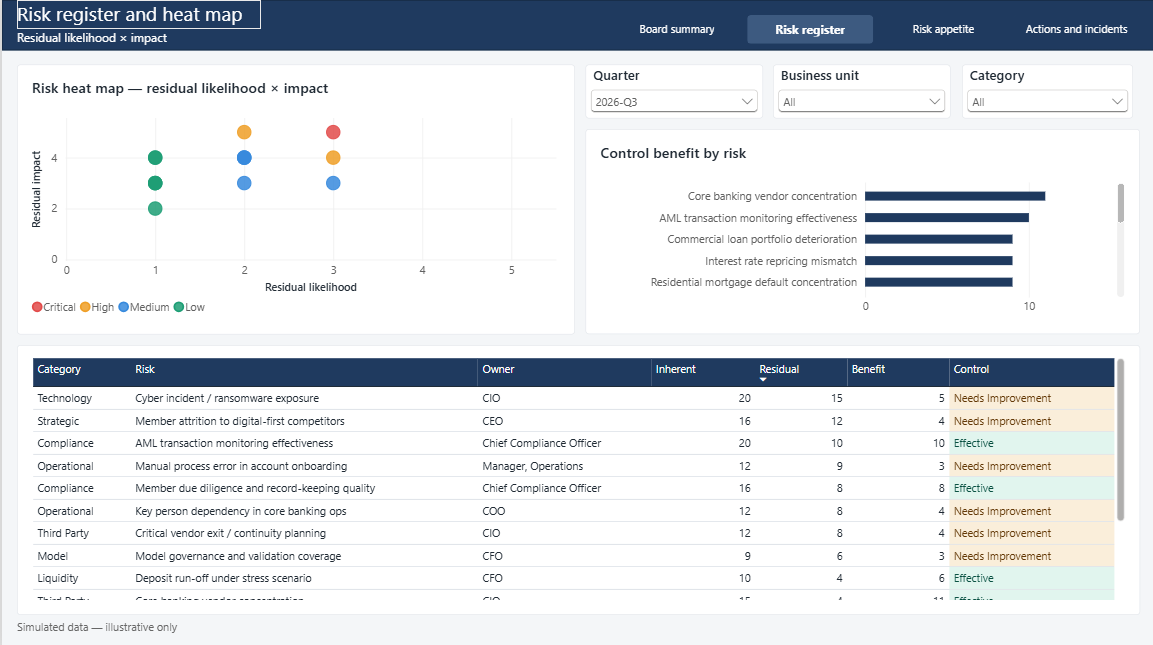

The page's visual inventory and layout, read from the dashboard file:
{"tool":"powerbi","page":{"name":"Risk register","canvas":[1280,720],"ordinal":1},"visuals":[{"type":"shape","box":[0,0,1280,56],"z":0},{"type":"textbox","box":[16,32,272,32],"z":1000},{"type":"textbox","box":[16,0,272,32],"z":2000},{"type":"scatterChart","title":"Risk heat map — residual likelihood × impact","fields":{"Category":["public dim_risk.risk_title"],"Series":["public vw_risk_quarter.residual_rating"],"X":["_Measures.Residual Likelihood"],"Y":["_Measures.Residual Impact"]},"box":[16,72,620,300],"z":3000},{"type":"tableEx","fields":{"Values":["public dim_risk.risk_category","public dim_risk.risk_title","public dim_risk.risk_owner","_Measures.Inherent Score","_Measures.Residual Score","_Measures.Control Benefit","public vw_risk_quarter.control_effectiveness"]},"box":[16,384,1248,300],"z":4000},{"type":"slicer","fields":{"Values":["public dim_risk.risk_category"]},"box":[1066,72,190,60],"z":5000},{"type":"barChart","title":"Control benefit by risk","fields":{"Category":["public dim_risk.risk_title"],"Y":["_Measures.Control Benefit"]},"box":[648,144,616,228],"z":6000},{"type":"textbox","box":[16,688,400,20],"z":7000},{"type":"slicer","fields":{"Values":["public dim_risk.business_unit"]},"box":[857,72,197,60],"z":8000},{"type":"pageNavigator","box":[680,16,584,32],"z":9000},{"type":"slicer","fields":{"Values":["Quarter.quarter"]},"box":[648,72,197,60],"z":10000}]}

Visuals, with their boxes in screenshot pixels (x1, y1, x2, y2), scaled from the page's 1280x720 canvas onto the 1153x645 screenshot:
shape: select_region(0, 0, 1152, 50)
textbox: select_region(14, 29, 259, 57)
textbox: select_region(14, 0, 259, 29)
"Risk heat map — residual likelihood × impact" scatterChart: select_region(14, 64, 573, 333)
tableEx - public dim_risk.risk_category x public dim_risk.risk_title: select_region(14, 344, 1139, 613)
slicer - public dim_risk.risk_category: select_region(960, 64, 1131, 118)
"Control benefit by risk" barChart: select_region(584, 129, 1139, 333)
textbox: select_region(14, 616, 375, 634)
slicer - public dim_risk.business_unit: select_region(772, 64, 949, 118)
pageNavigator: select_region(613, 14, 1139, 43)
slicer - Quarter.quarter: select_region(584, 64, 761, 118)
